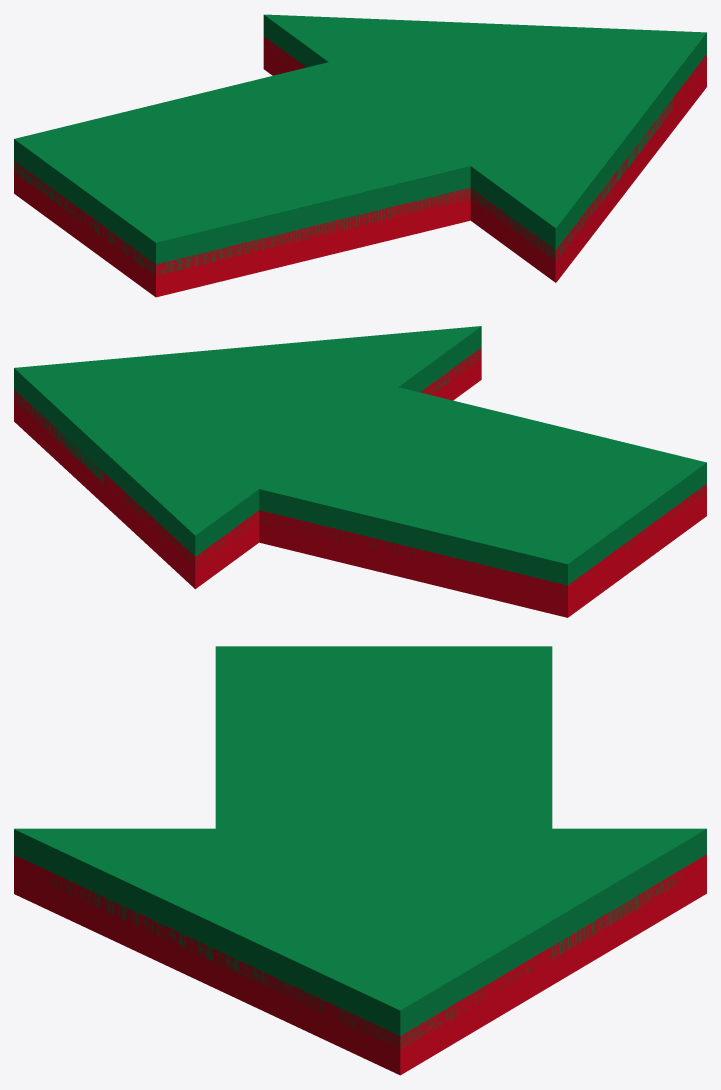
Rendered from FLECHA.obj.
3 renders of one model, top to bottom at view 1: azimuth 30°, elevation 25°; view 2: azimuth 150°, elevation 25°; view 3: azimuth 270°, elevation 25°, orthographic. The views are drawn at different scales.
Visible parts, largest first — view 1: Cube.007_Cube.009, Cube.006_Cube.008, Cube.001, Cube.001_Cube.002; view 2: Cube.007_Cube.009, Cube.006_Cube.008, Cube.001, Cube.001_Cube.002; view 3: Cube.007_Cube.009, Cube.006_Cube.008, Cube.001_Cube.002, Cube.001.
Part boxes in pixels (left/top/right/bottom): Cube.007_Cube.009: left=14, top=24, right=706, bottom=274; Cube.006_Cube.008: left=263, top=14, right=673, bottom=260; Cube.001: left=14, top=54, right=706, bottom=297; Cube.001_Cube.002: left=263, top=36, right=673, bottom=282; Cube.007_Cube.009: left=14, top=349, right=706, bottom=594; Cube.006_Cube.008: left=53, top=326, right=481, bottom=566; Cube.001: left=14, top=389, right=706, bottom=617; Cube.001_Cube.002: left=104, top=347, right=481, bottom=589; Cube.007_Cube.009: left=215, top=646, right=552, bottom=1049; Cube.006_Cube.008: left=14, top=828, right=706, bottom=1009; Cube.001_Cube.002: left=14, top=854, right=706, bottom=1035; Cube.001: left=316, top=946, right=552, bottom=1075.
Size of the model in its own units: 1.53 by 0.1268 by 1.23.
1 material, 1 textured.
